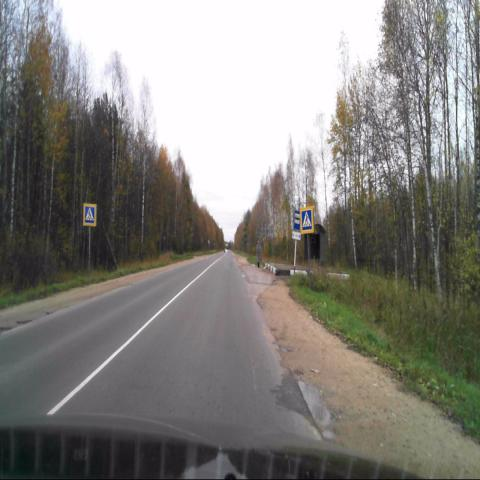5_16: (294, 210, 300, 229)
5_19_1: (300, 206, 314, 233), (83, 203, 97, 226)
